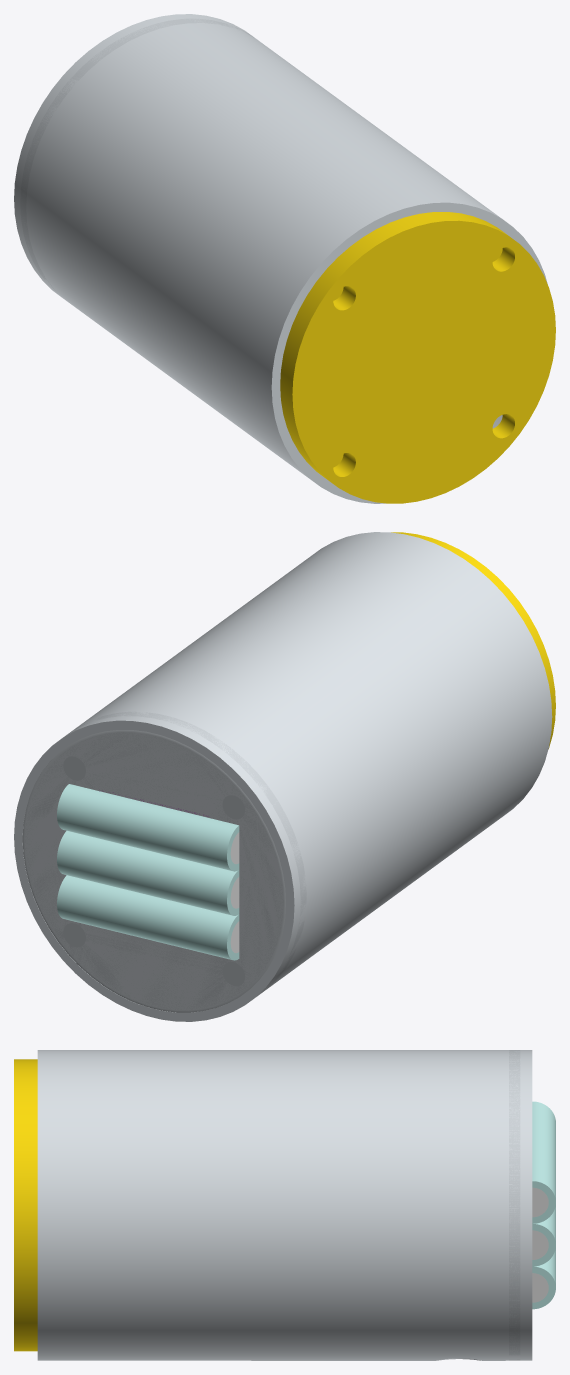
File: CanSat-3D-model.gltf
The picture shows the model from 3 angles, top to bottom: view 1: azimuth 30°, elevation 25°; view 2: azimuth 150°, elevation 25°; view 3: azimuth 270°, elevation 25°; orthographic projection. The views are drawn at different scales.
Parts seen in each view (by area): view 1: Part 1 (×2), Part 2; view 2: Part 1 (×4), Part 2 (×2), Part 3; view 3: Part 1 (×3), Part 2 (×2), Part 3, Part 6, Part 4, Part 5.
Boxes of the visible parts, x1=… form: Part 1 (×2): x1=14, y1=14, x2=555, y2=503; Part 2: x1=20, y1=18, x2=255, y2=290; Part 1 (×4): x1=14, y1=532, x2=555, y2=1021; Part 2 (×2): x1=22, y1=711, x2=306, y2=1012; Part 3: x1=57, y1=784, x2=239, y2=871; Part 1 (×3): x1=14, y1=1050, x2=555, y2=1360; Part 2 (×2): x1=509, y1=1050, x2=555, y2=1360; Part 3: x1=532, y1=1101, x2=555, y2=1223; Part 6: x1=532, y1=1187, x2=548, y2=1217; Part 4: x1=532, y1=1273, x2=548, y2=1302; Part 5: x1=532, y1=1230, x2=548, y2=1259.
Bounding box in the file's own units: 0.066 × 0.0659 × 0.115.
